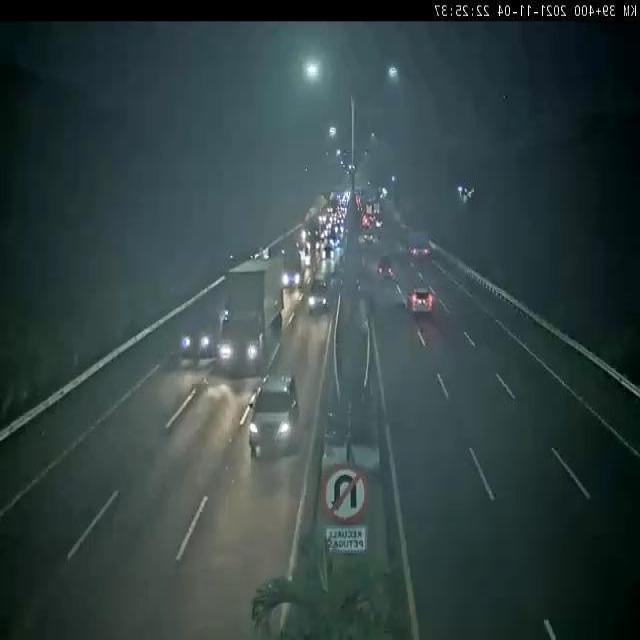Car: (238, 360, 307, 465), (175, 304, 222, 362), (302, 275, 333, 317), (406, 288, 434, 316), (374, 250, 394, 286), (360, 229, 379, 250), (321, 243, 337, 264), (373, 216, 386, 233)
Truck: (208, 266, 290, 378), (274, 245, 308, 295), (404, 230, 435, 269)
